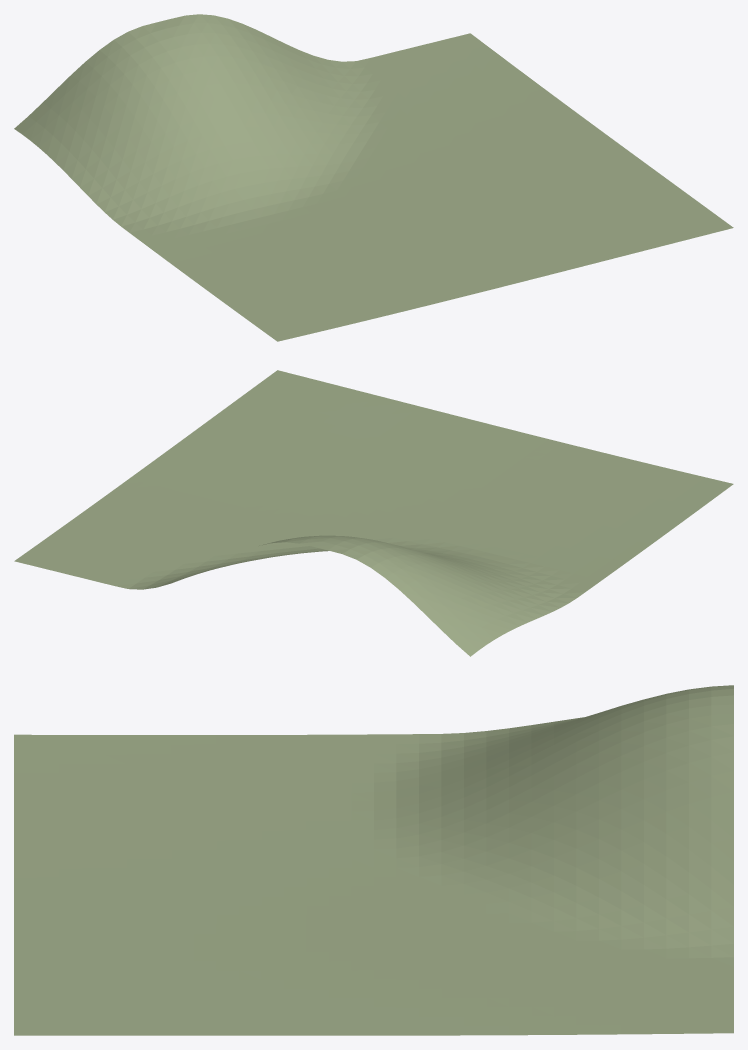
Rendered from desert-19-27.glb.
The picture shows the model from 3 angles, top to bottom: view 1: azimuth 30°, elevation 25°; view 2: azimuth 150°, elevation 25°; view 3: azimuth 270°, elevation 25°; orthographic projection. The views are drawn at different scales.
Parts seen in each view (by area): view 1: desert-19-27; view 2: desert-19-27; view 3: desert-19-27.
Part boxes in pixels (x1=…): desert-19-27: x1=14, y1=14, x2=733, y2=341; desert-19-27: x1=14, y1=370, x2=733, y2=656; desert-19-27: x1=14, y1=685, x2=733, y2=1035.
Size of the model in its own units: 512 by 99.09 by 512.
